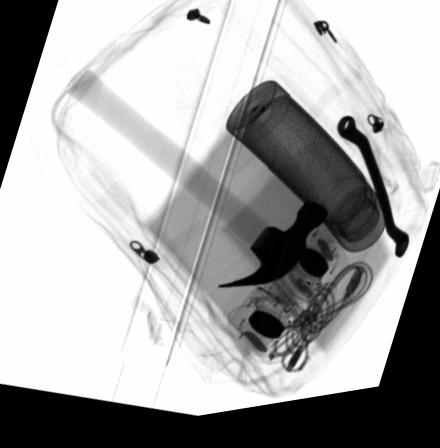Hammer: (62, 68, 328, 295)
Wrench: (335, 127, 409, 272)
